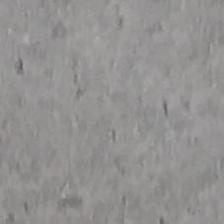Non_Crack: (15, 20, 220, 224)
